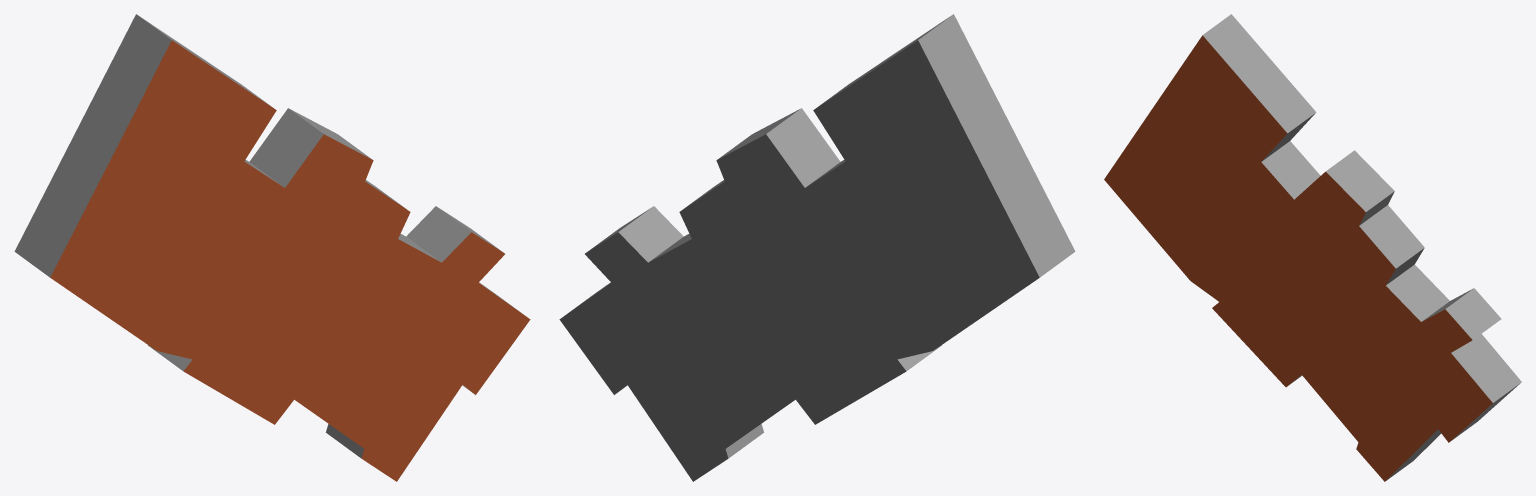
The model's file is construction_4608_assumed_A_Casa_h6m.obj.
3 views of the same model, side by side, from view 1: azimuth 30°, elevation 25°; view 2: azimuth 150°, elevation 25°; view 3: azimuth 330°, elevation 25° (orthographic). The views are drawn at different scales.
Parts seen in each view (by area): view 1: construction_4608_assumed_A_Casa; view 2: construction_4608_assumed_A_Casa; view 3: construction_4608_assumed_A_Casa.
Part boxes in pixels (x1,y1,x2,y2): construction_4608_assumed_A_Casa: [14, 14, 530, 481]; construction_4608_assumed_A_Casa: [559, 14, 1075, 481]; construction_4608_assumed_A_Casa: [1104, 14, 1521, 481].
Bounding box in the file's own units: 46.57 × 46.02 × 6.
